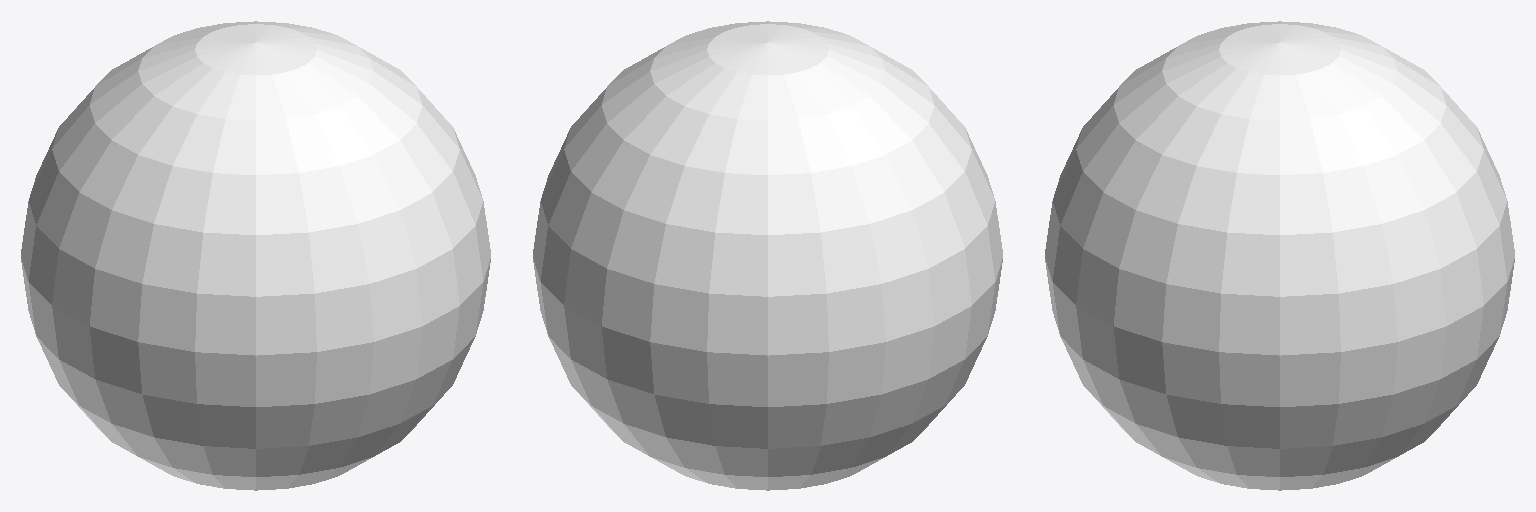
Rendered from Ball1.obj.
The picture shows the model from 3 angles: view 1: azimuth 30°, elevation 25°; view 2: azimuth 150°, elevation 25°; view 3: azimuth 270°, elevation 25°; orthographic projection.
Visible parts, largest first — view 1: Sphere_None; view 2: Sphere_None; view 3: Sphere_None.
Boxes of the visible parts, x1=… form: Sphere_None: x1=21, y1=21, x2=490, y2=490; Sphere_None: x1=533, y1=21, x2=1002, y2=490; Sphere_None: x1=1045, y1=21, x2=1514, y2=490.
Size of the model in its own units: 2 by 2 by 2.